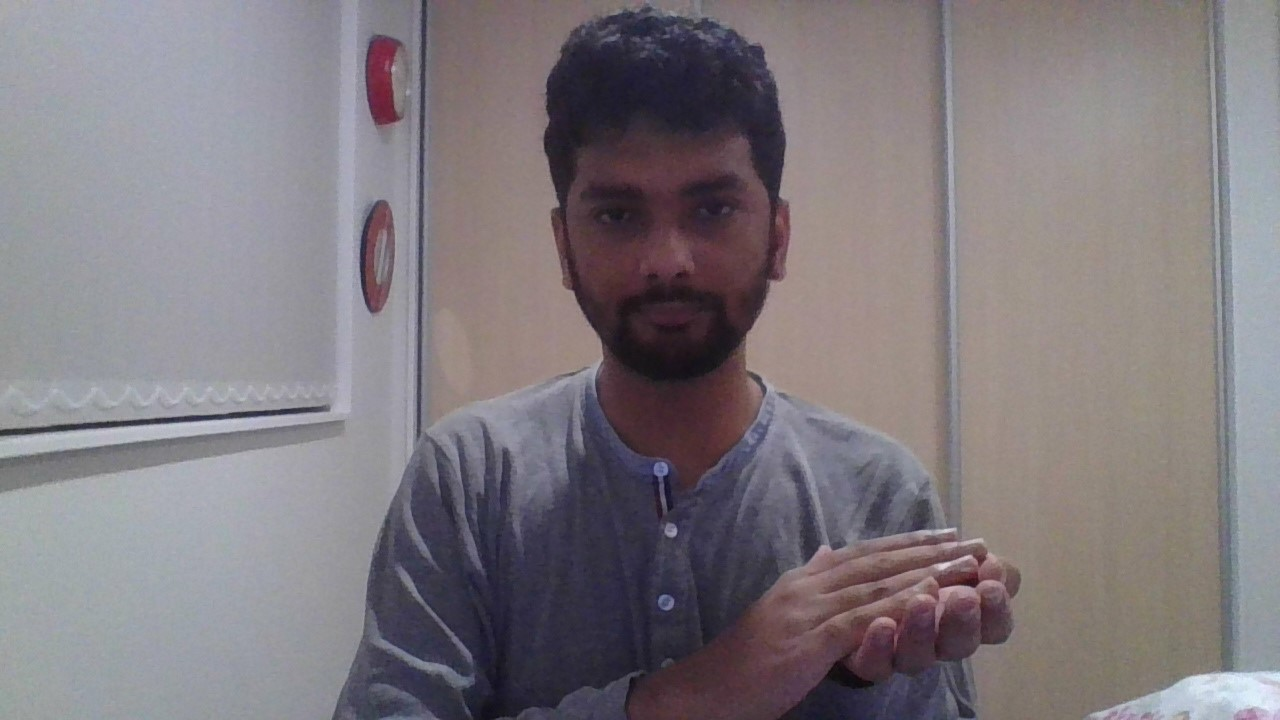clear: (690, 526, 1022, 720)
